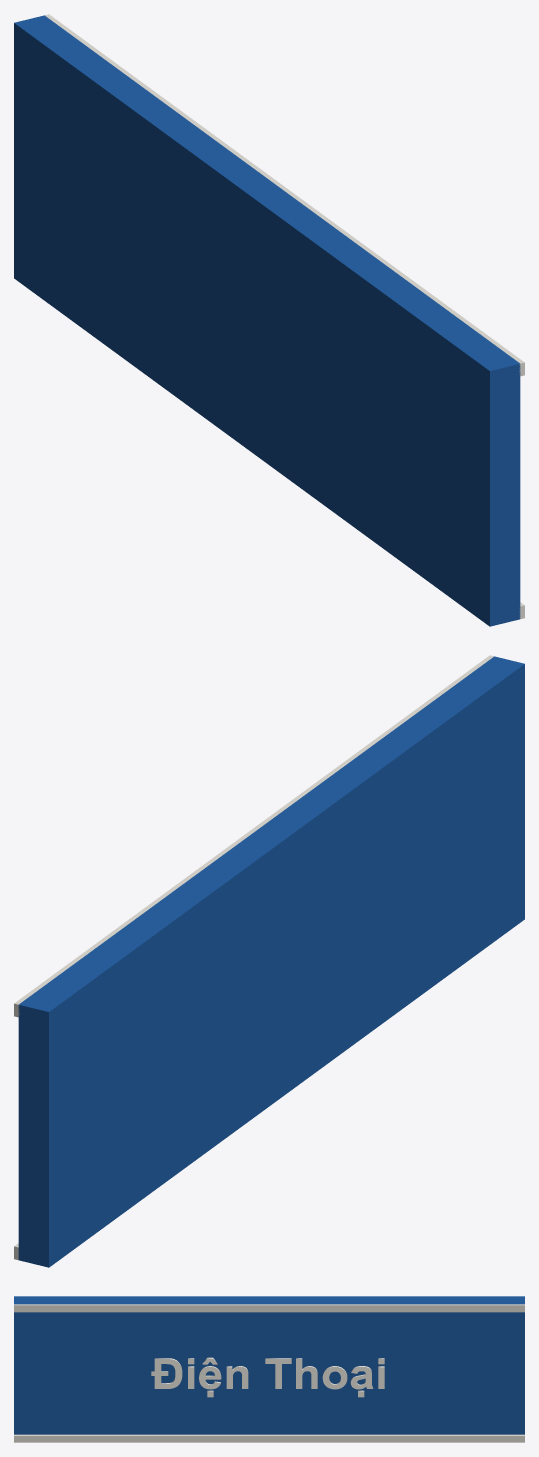
Rendered from OW_Mau_Bang_6_0_10.fbx.
3 views of the same model, one above another, from view 1: azimuth 30°, elevation 25°; view 2: azimuth 150°, elevation 25°; view 3: azimuth 270°, elevation 25° (orthographic). The views are drawn at different scales.
Visible parts, largest first — view 1: OW_Bang_Điện Thoại.003; view 2: OW_Bang_Điện Thoại.003; view 3: OW_Bang_Điện Thoại.003, Chữ • Điện Thoại.003_Mesh.
Boxes of the visible parts, x1=… form: OW_Bang_Điện Thoại.003: x1=14, y1=14, x2=524, y2=626; OW_Bang_Điện Thoại.003: x1=14, y1=655, x2=524, y2=1267; OW_Bang_Điện Thoại.003: x1=14, y1=1296, x2=524, y2=1442; Chữ • Điện Thoại.003_Mesh: x1=151, y1=1357, x2=384, y2=1397.
Size of the model in its own units: 0.24 by 1.6 by 5.4.
